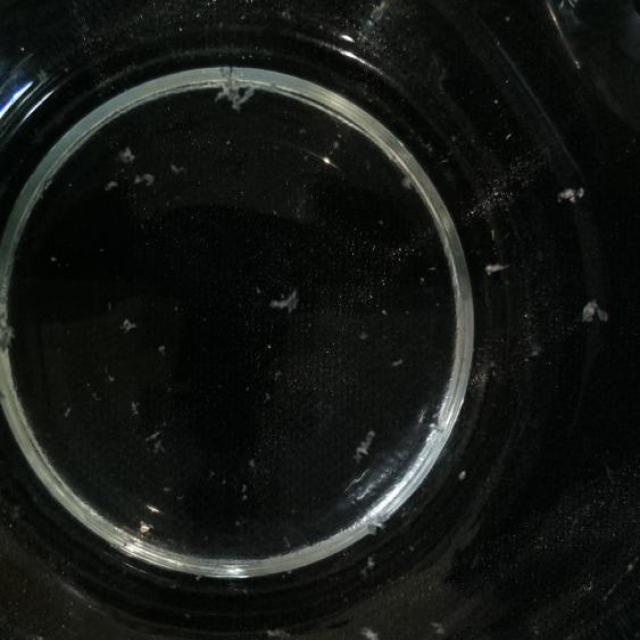fiber: (213, 68, 248, 112), (142, 431, 169, 475), (354, 425, 377, 471), (266, 288, 301, 318), (576, 299, 608, 327), (556, 186, 584, 207), (102, 176, 125, 200), (399, 167, 416, 198), (136, 169, 158, 192), (483, 262, 511, 280), (263, 625, 294, 640), (119, 314, 137, 339), (128, 394, 144, 420), (118, 143, 134, 168), (362, 621, 380, 640)
